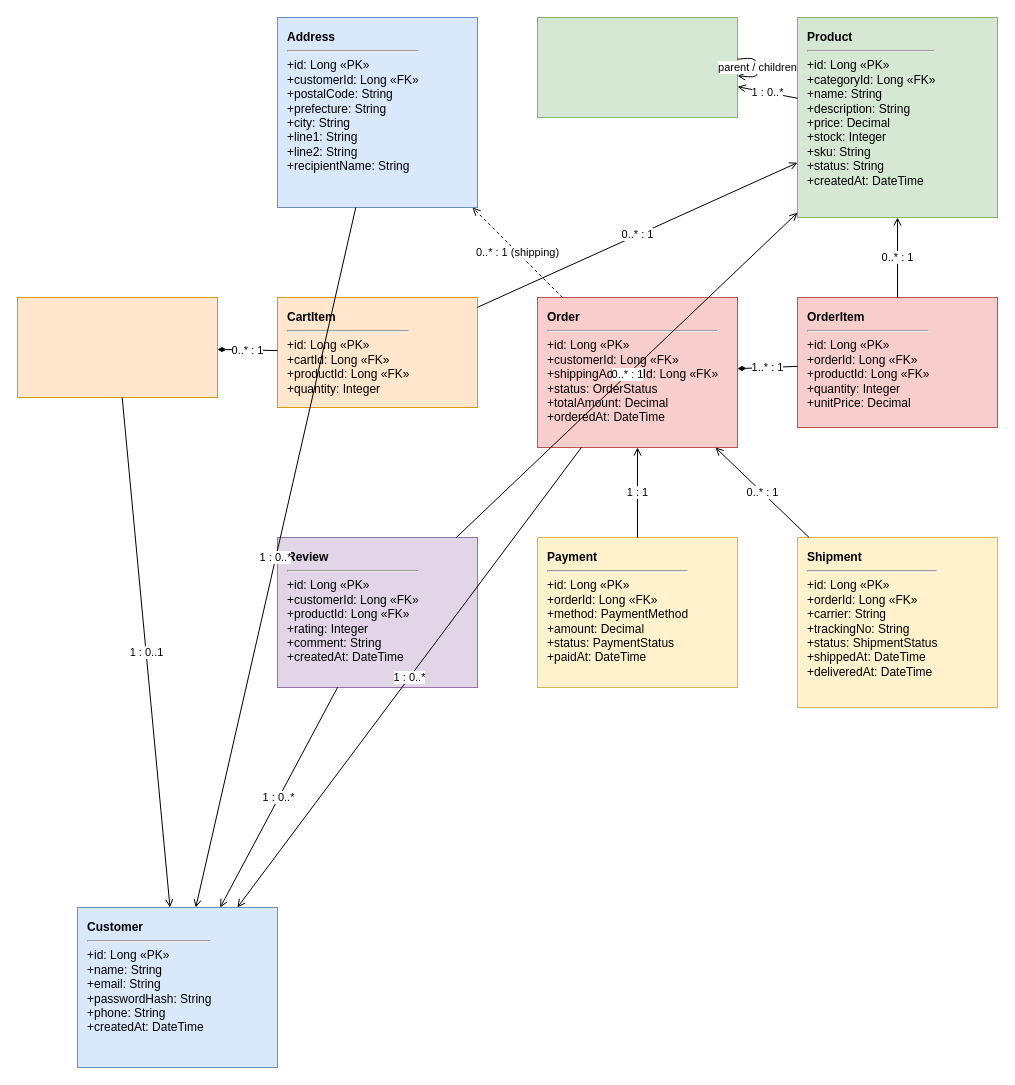
Image size: 1015x1085. Some labels were removed from this diagram. Each missing label, with the box of its shape:
Cart +id: Long «PK» +customerId: Long «FK» +createdAt: DateTime: (16, 296, 218, 398)
Category +id: Long «PK» +parentId: Long «FK,null» +name: String: (536, 16, 738, 118)
